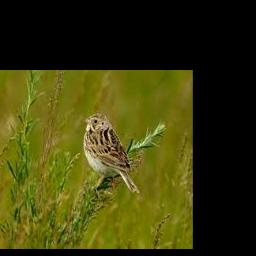Sparrow: (83, 113, 141, 194)
